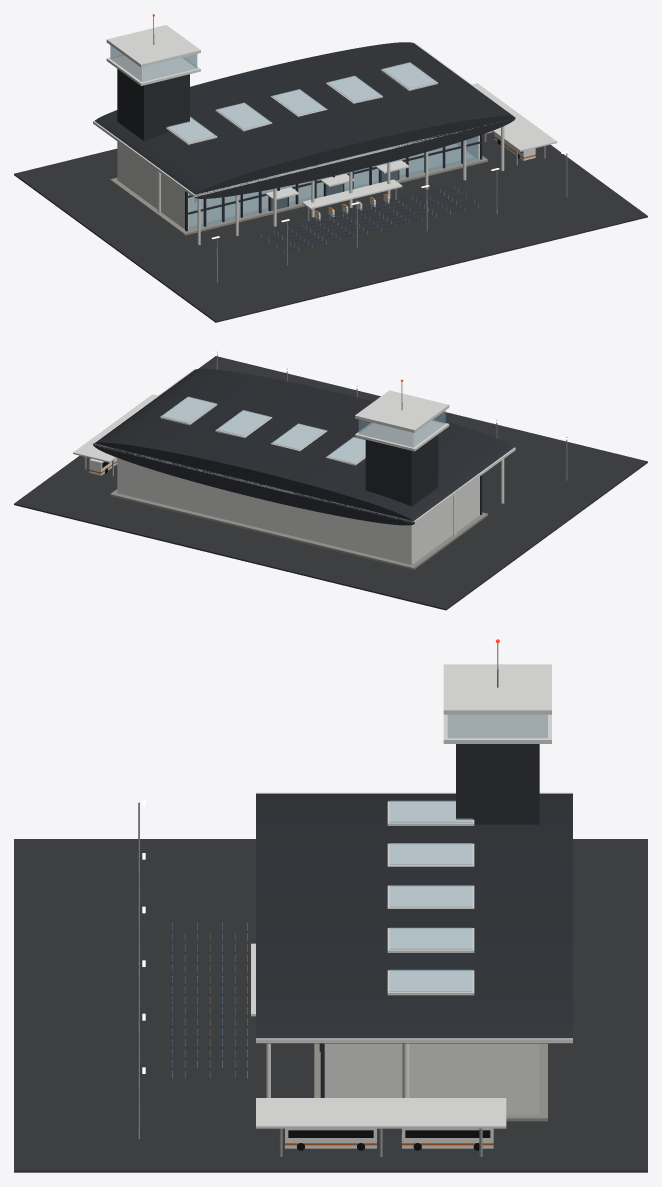
File: EA04_passenger_terminal.glb
The picture shows the model from 3 angles, top to bottom: view 1: azimuth 30°, elevation 25°; view 2: azimuth 150°, elevation 25°; view 3: azimuth 270°, elevation 25°; orthographic projection. The views are drawn at different scales.
Parts seen in each view (by area): view 1: apron, roof_shell, skylight_frame (×5), glass_front, control_tower_shaft, skylight (×5), hall_floor, end_wall, control_room_roof, plinth, control_room_floor, bus_canopy (+4 smaller); view 2: apron, roof_shell, rear_wall, control_tower_shaft, skylight_frame (×4), skylight (×4), end_wall, control_room_roof, plinth, control_room_floor, roof_fascia, control_room_glazing (+1 smaller); view 3: apron, roof_shell, end_wall, skylight_frame (×5), skylight (×5), bus_canopy, control_tower_shaft, control_room_roof, control_room_floor, control_room_glazing, roof_fascia, bus_body (×2) (+1 smaller).
Part boxes in pixels (bbox=[...]): apron: bbox=[14, 132, 647, 322]; roof_shell: bbox=[94, 42, 515, 198]; skylight_frame (×5): bbox=[166, 62, 437, 144]; glass_front: bbox=[188, 136, 478, 229]; control_tower_shaft: bbox=[117, 69, 189, 140]; skylight (×5): bbox=[167, 62, 436, 142]; hall_floor: bbox=[189, 144, 473, 226]; end_wall: bbox=[117, 142, 188, 230]; control_room_roof: bbox=[106, 25, 200, 67]; plinth: bbox=[110, 143, 487, 235]; control_room_floor: bbox=[106, 55, 200, 85]; bus_canopy: bbox=[472, 83, 557, 151]; apron: bbox=[14, 356, 647, 610]; roof_shell: bbox=[93, 368, 513, 525]; rear_wall: bbox=[117, 458, 412, 564]; control_tower_shaft: bbox=[365, 434, 438, 506]; skylight_frame (×4): bbox=[160, 397, 365, 465]; skylight (×4): bbox=[161, 396, 365, 463]; end_wall: bbox=[409, 476, 479, 564]; control_room_roof: bbox=[355, 390, 449, 432]; plinth: bbox=[110, 489, 487, 569]; control_room_floor: bbox=[355, 420, 449, 451]; roof_fascia: bbox=[93, 369, 515, 523]; control_room_glazing: bbox=[358, 410, 445, 447]; apron: bbox=[14, 839, 647, 1172]; roof_shell: bbox=[256, 793, 572, 1043]; end_wall: bbox=[324, 1043, 539, 1114]; skylight_frame (×5): bbox=[387, 801, 474, 995]; skylight (×5): bbox=[389, 800, 472, 992]; bus_canopy: bbox=[256, 1098, 506, 1128]; control_tower_shaft: bbox=[456, 744, 539, 824]; control_room_roof: bbox=[443, 664, 551, 714]; control_room_floor: bbox=[443, 714, 551, 743]; control_room_glazing: bbox=[447, 714, 547, 738]; roof_fascia: bbox=[256, 792, 572, 1043]; bus_body (×2): bbox=[285, 1128, 493, 1148].
Size of the model in its own units: 94 by 36.05 by 76.
